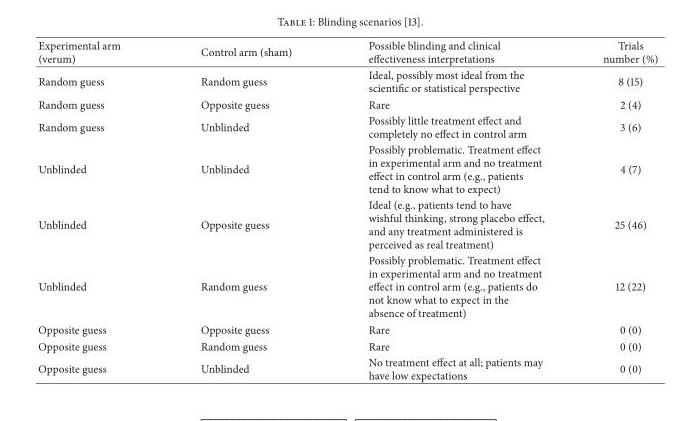table: (37, 37, 657, 382)
table column: (329, 37, 573, 382), (159, 37, 329, 382), (37, 37, 159, 382), (573, 37, 657, 382)
table column header: (37, 37, 657, 66)
table row: (37, 251, 657, 320), (37, 141, 657, 196), (37, 196, 657, 251), (37, 37, 657, 66), (37, 66, 657, 95), (37, 112, 657, 141), (37, 353, 657, 382), (37, 95, 657, 112), (37, 320, 657, 337), (37, 337, 657, 353)
